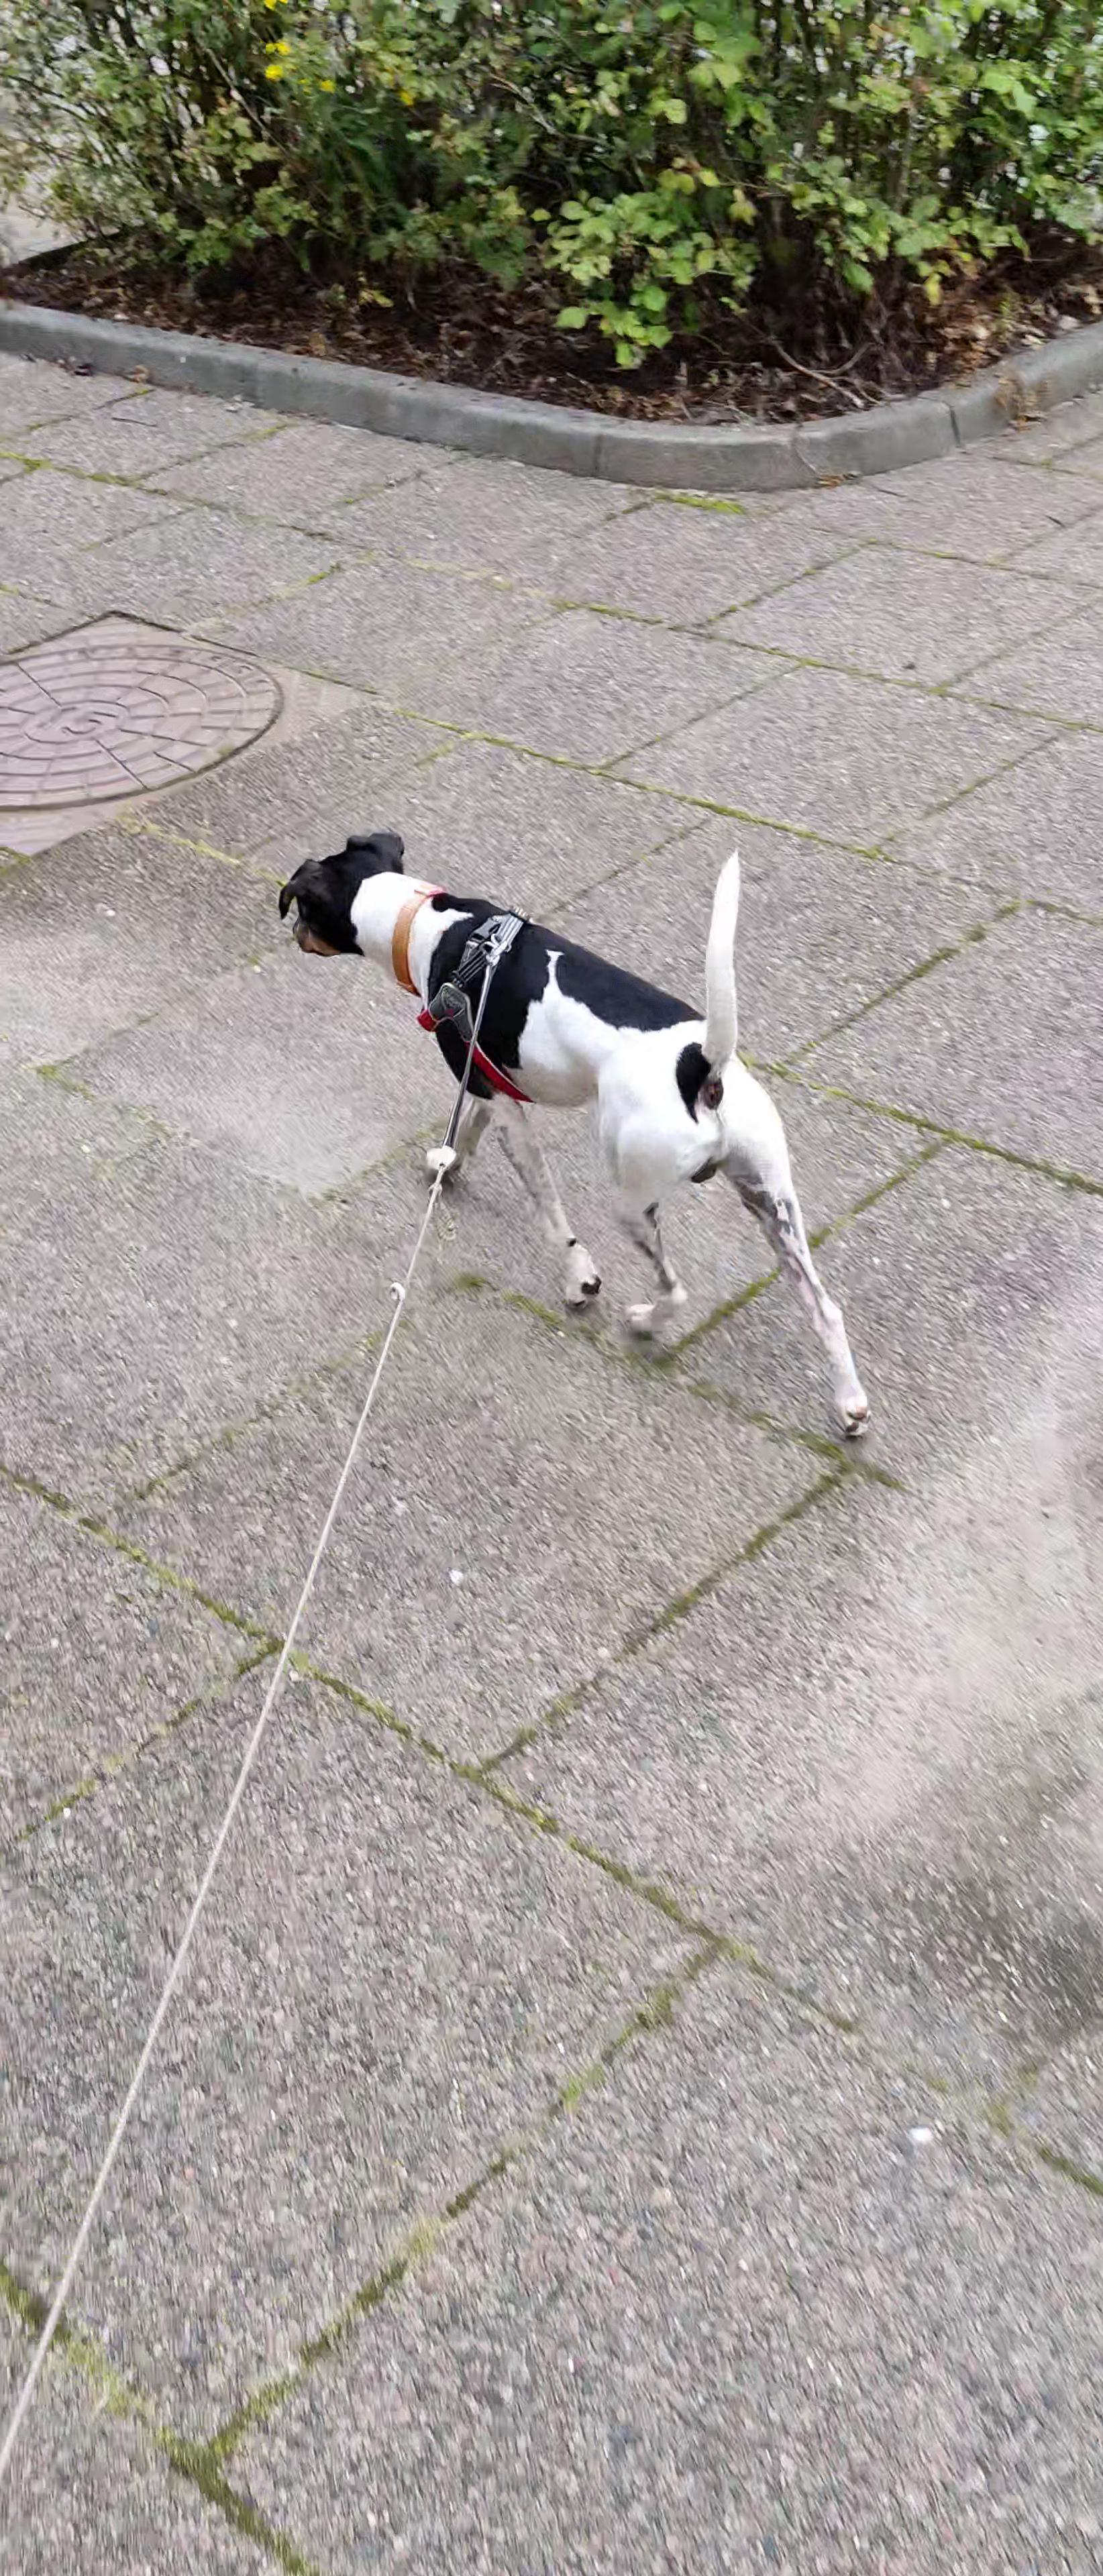Dog: (271, 828, 878, 1441)
